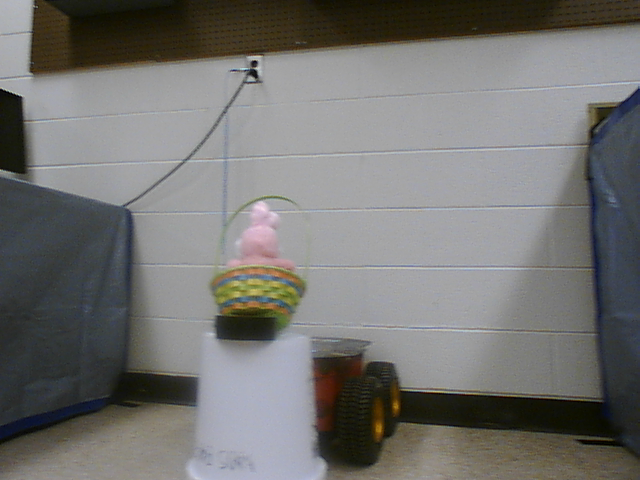bunny: (211, 190, 314, 332)
